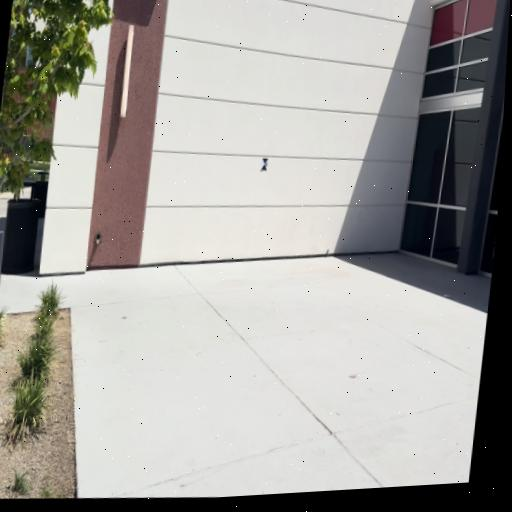target0: (260, 157, 269, 171)
